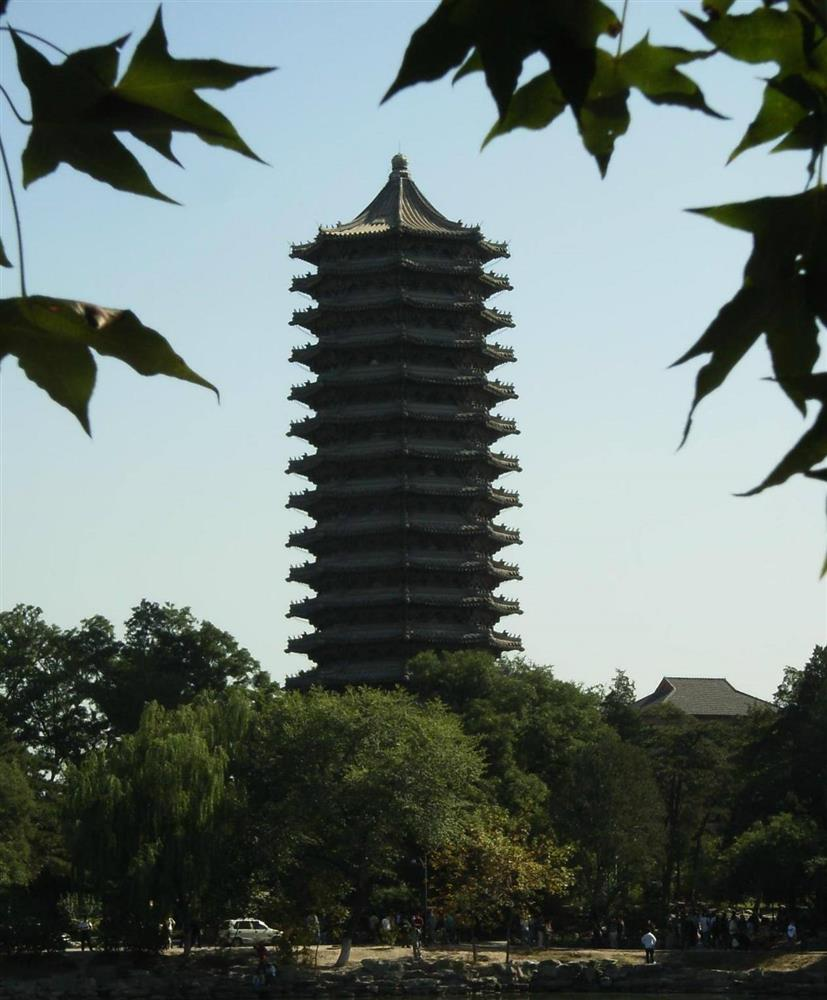Peking_Univ_Boya_Tower: (266, 134, 546, 680)
